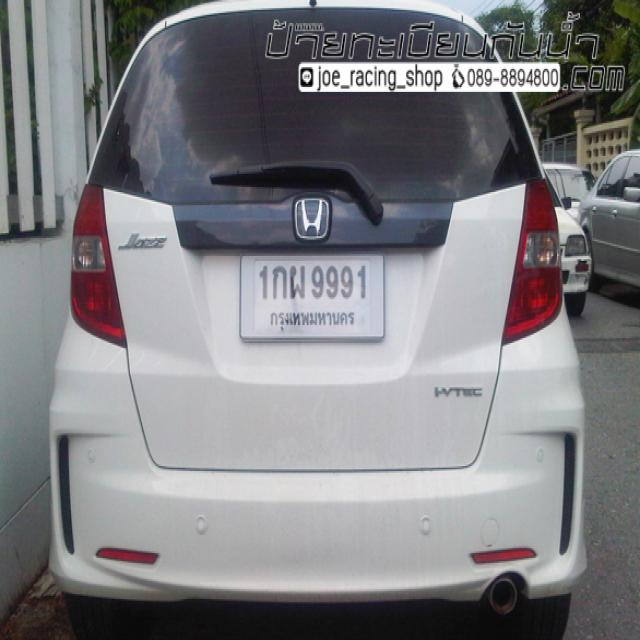license_plate: (237, 247, 388, 347)
